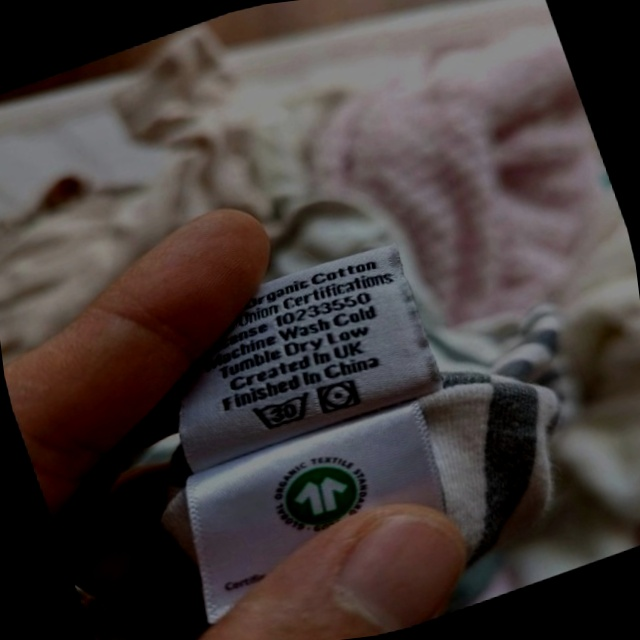30C: (243, 384, 321, 440)
tumble_dry_low: (310, 371, 367, 422)
